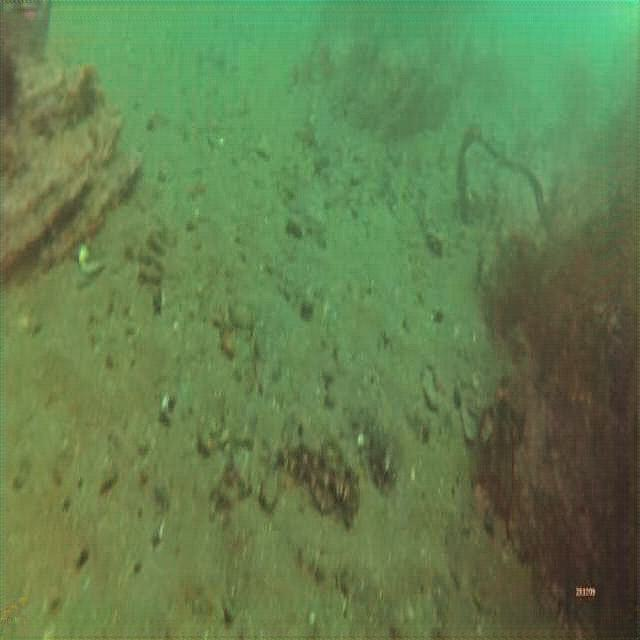holothurian: (276, 424, 362, 523)
